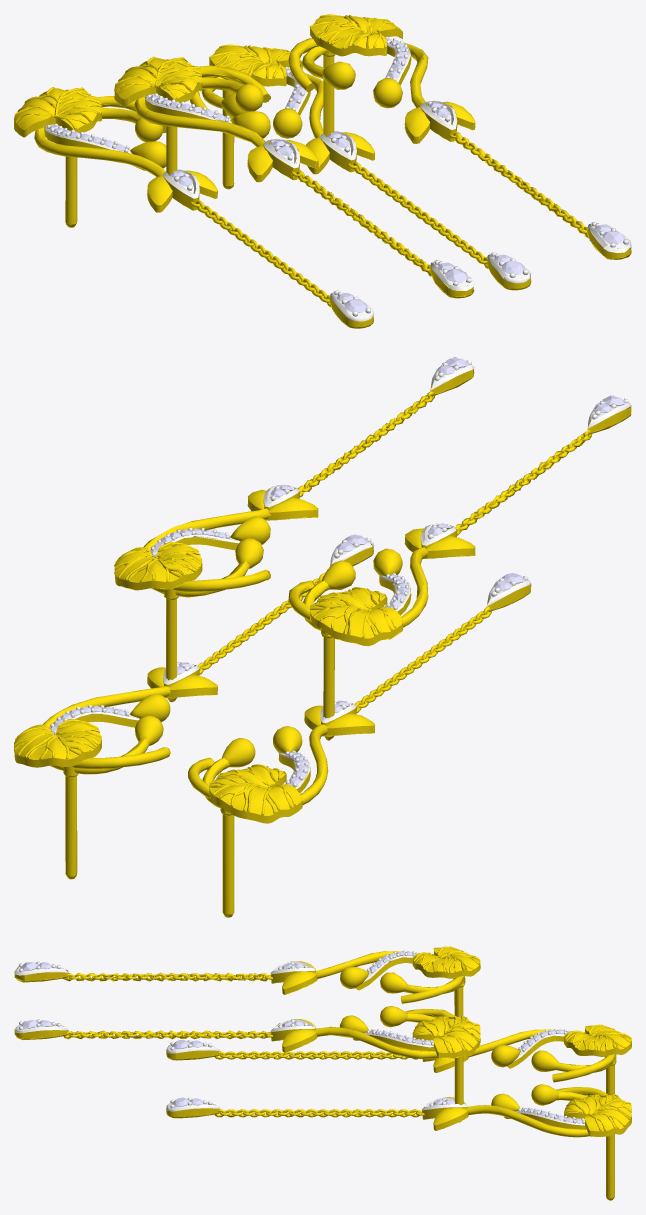
The picture shows the model from 3 angles, top to bottom: view 1: azimuth 30°, elevation 25°; view 2: azimuth 150°, elevation 25°; view 3: azimuth 270°, elevation 25°; orthographic projection. The views are drawn at different scales.
Visible parts, largest first — view 1: lowPolyMesh, highPolyMesh; view 2: lowPolyMesh, highPolyMesh; view 3: lowPolyMesh, highPolyMesh.
Boxes of the visible parts, left/top/right/bottom form: lowPolyMesh: left=114, top=14, right=631, bottom=298; highPolyMesh: left=14, top=44, right=531, bottom=328; lowPolyMesh: left=114, top=357, right=631, bottom=740; highPolyMesh: left=14, top=534, right=531, bottom=917; lowPolyMesh: left=14, top=946, right=480, bottom=1122; highPolyMesh: left=166, top=1024, right=631, bottom=1200.
Size of the model in its own units: 0.0234 by 0.0194 by 0.0594.
